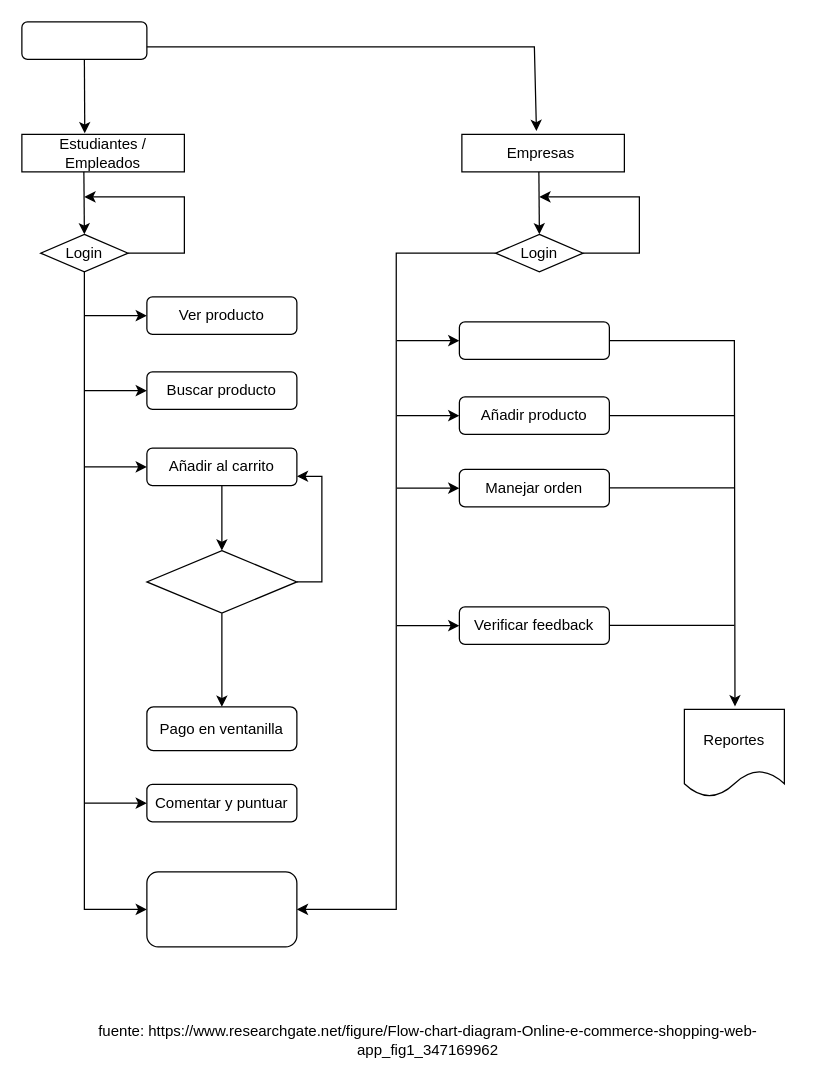
Image size: 819x1081. Some labels were removed from this diagram. The centre of each missing label's shape, as x and y in pixels:
"Añadir categoría" belongs at point 533,340.
"Inicio" belongs at point 84,40.
"Logout" belongs at point 221,909.
"Pedido" belongs at point 221,581.
